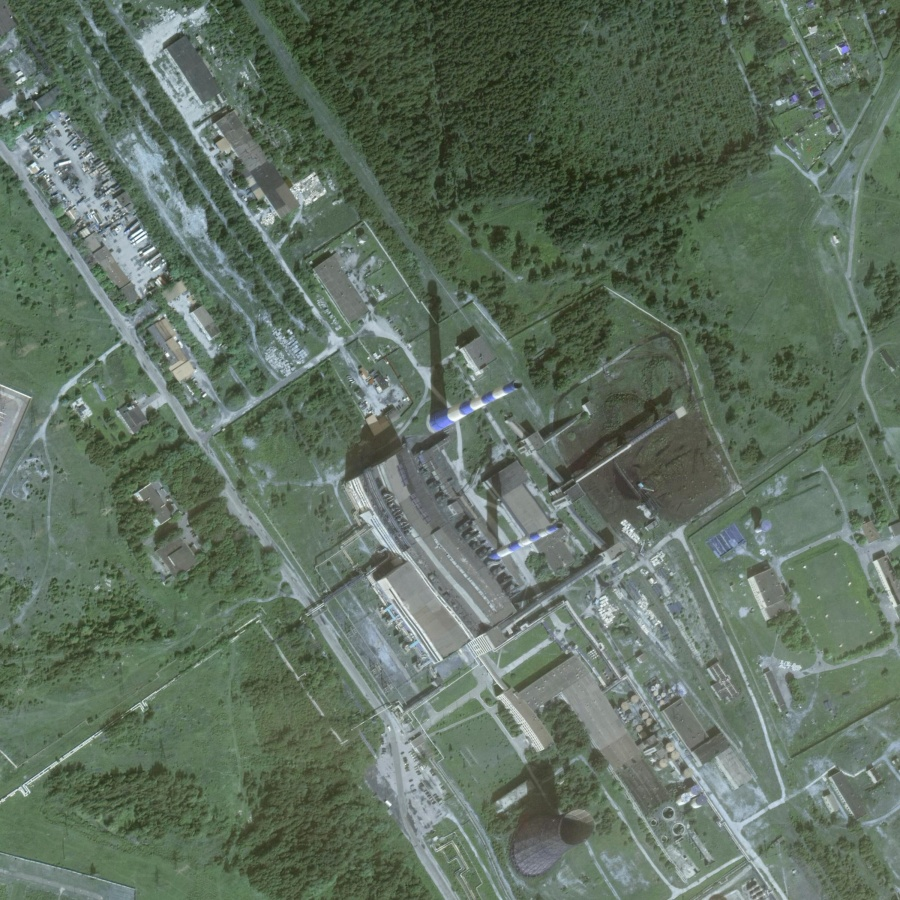PowerPlant: (396, 307, 702, 690), (485, 758, 614, 888)
